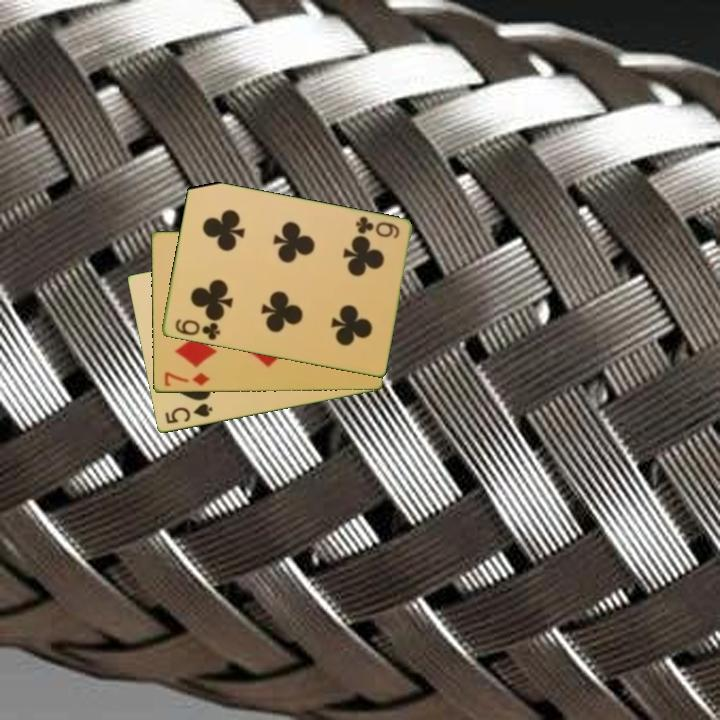5s: (161, 400, 215, 427)
6c: (351, 213, 402, 242), (171, 316, 223, 343)
7d: (160, 369, 212, 390)
